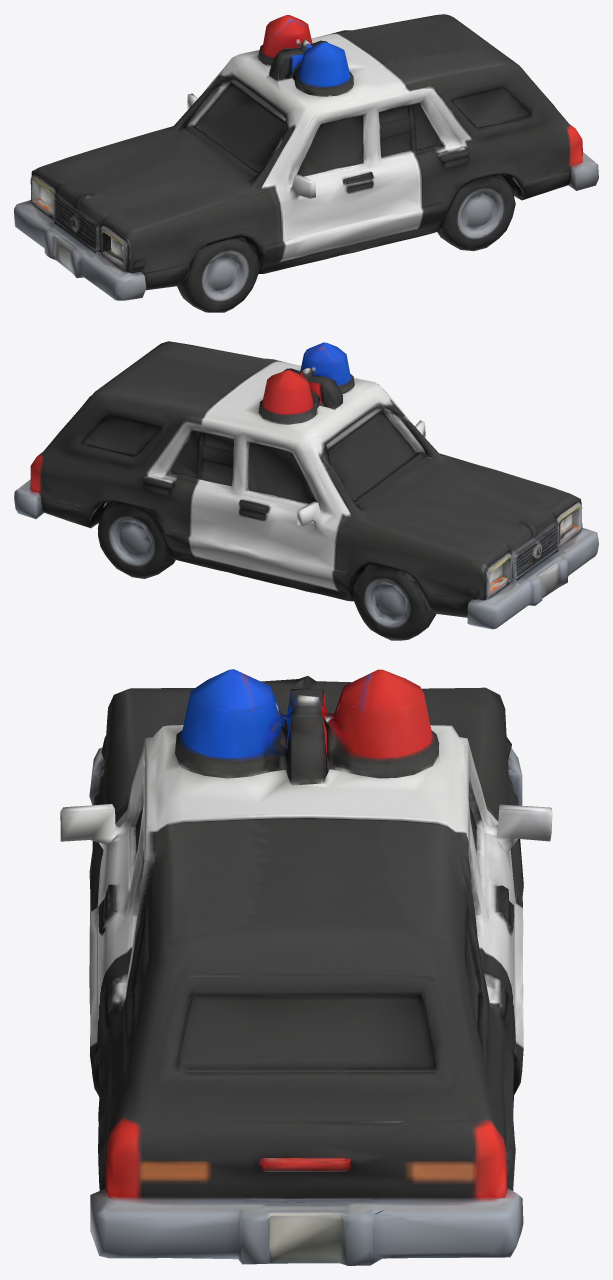
The model's file is Low_poly_police_car__1209212353_texture-v1.glb.
3 renders of one model, top to bottom at view 1: azimuth 30°, elevation 25°; view 2: azimuth 150°, elevation 25°; view 3: azimuth 270°, elevation 25°, orthographic. The views are drawn at different scales.
Visible parts, largest first — view 1: Mesh1.0; view 2: Mesh1.0; view 3: Mesh1.0.
Boxes of the visible parts, x1,y1,x2,y2 form: Mesh1.0: [14, 14, 598, 312]; Mesh1.0: [14, 341, 598, 640]; Mesh1.0: [60, 669, 552, 1265].
Size of the model in its own units: 3.55 by 1.5 by 1.54.
1 material, 1 textured.
